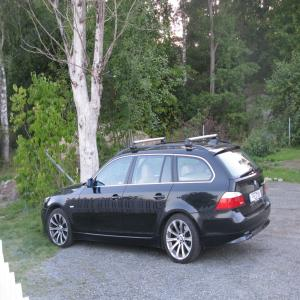Vehicle-registration-plate: (250, 190, 262, 203)
